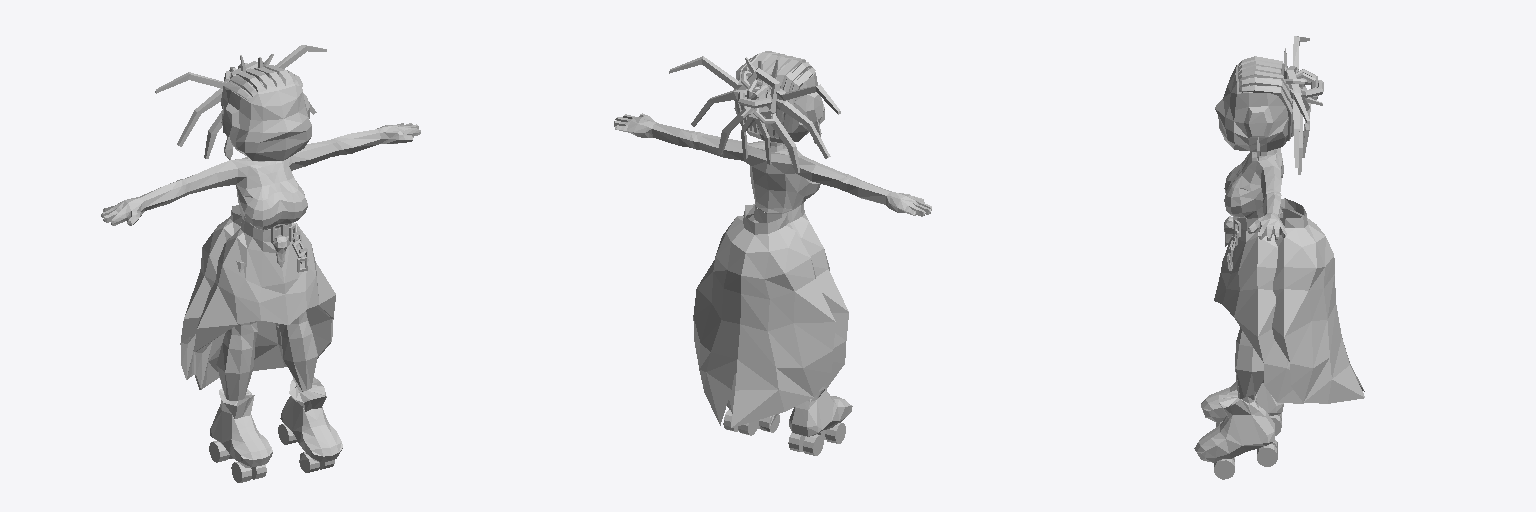
File: WitchFINAL2_000003.obj
3 renders of one model, left to right at view 1: azimuth 30°, elevation 25°; view 2: azimuth 150°, elevation 25°; view 3: azimuth 270°, elevation 25°, orthographic.
Parts seen in each view (by area): view 1: Body_Cylinder, Torso(Boobies)_Cylinder.002, LegR_Cube.004, LegL_Cube.003, Head_Cylinder.004, ZBody_Cylinder.001, Hair_Cylinder.006, Tail.001_Torus.001; view 2: ZBody_Cylinder.001, Torso(Boobies)_Cylinder.002, Body_Cylinder, LegR_Cube.004, Hair_Cylinder.006, Tail.001_Torus.001, Tail_Torus, Tail.002_Torus.002, Head_Cylinder.004, LegL_Cube.003; view 3: ZBody_Cylinder.001, Body_Cylinder, LegL_Cube.003, Torso(Boobies)_Cylinder.002, Head_Cylinder.004, Hair_Cylinder.006, LegR_Cube.004, Tail_Torus, Tail.002_Torus.002.
Boxes of the visible parts, box(x1,y1,x2,y2) form: Body_Cylinder: box(194, 219, 335, 389); Torso(Boobies)_Cylinder.002: box(101, 123, 420, 229); LegR_Cube.004: box(209, 261, 272, 482); LegL_Cube.003: box(278, 311, 342, 472); Head_Cylinder.004: box(221, 67, 311, 160); ZBody_Cylinder.001: box(180, 205, 241, 379); Hair_Cylinder.006: box(221, 65, 302, 108); Tail.001_Torus.001: box(155, 72, 233, 158); ZBody_Cylinder.001: box(693, 204, 835, 427); Torso(Boobies)_Cylinder.002: box(614, 113, 931, 216); Body_Cylinder: box(727, 203, 848, 413); LegR_Cube.004: box(788, 388, 852, 455); Hair_Cylinder.006: box(734, 51, 815, 138); Tail.001_Torus.001: box(754, 84, 840, 173); Tail_Torus: box(738, 57, 780, 123); Tail.002_Torus.002: box(669, 56, 754, 158); Head_Cylinder.004: box(734, 59, 824, 143); LegL_Cube.003: box(723, 404, 779, 435); ZBody_Cylinder.001: box(1272, 198, 1364, 403); Body_Cylinder: box(1214, 212, 1303, 403); LegL_Cube.003: box(1194, 267, 1277, 479); Torso(Boobies)_Cylinder.002: box(1224, 148, 1286, 240); Head_Cylinder.004: box(1215, 64, 1290, 151); Hair_Cylinder.006: box(1238, 56, 1293, 140); LegR_Cube.004: box(1201, 380, 1283, 435); Tail_Torus: box(1281, 48, 1323, 110); Tail.002_Torus.002: box(1290, 89, 1310, 174).
Size of the model in its own units: 13.76 by 16.8 by 6.49.